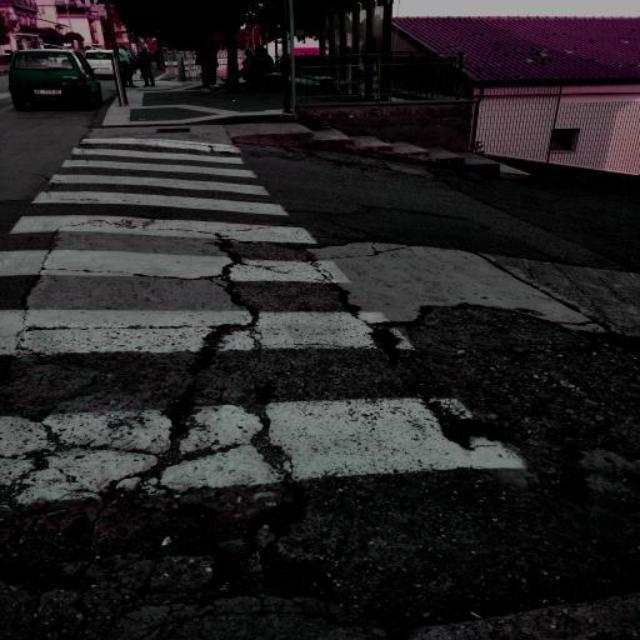sidewalk: (0, 117, 636, 626)
